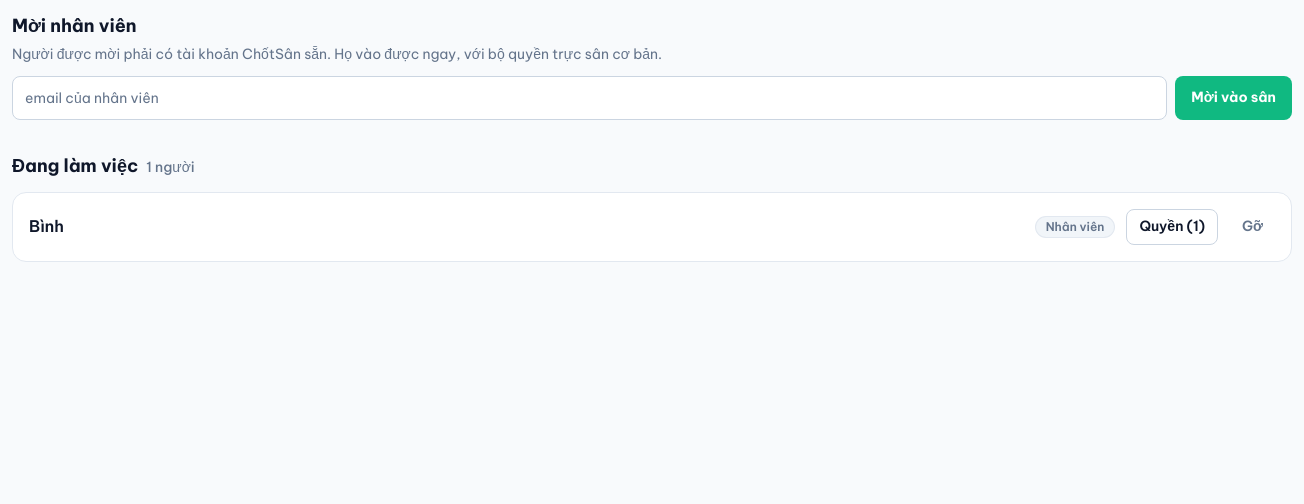
Test case: StaffManager › ô chưa tick mà không cấp được thì khoá; ô chủ sân đã tick vẫn gửi đi khi lưu
The width and height of the screenshot is (1304, 504).
Click the button "Quyền (1)".
click(1172, 227)  # box left=1126, top=209, right=1218, bottom=245
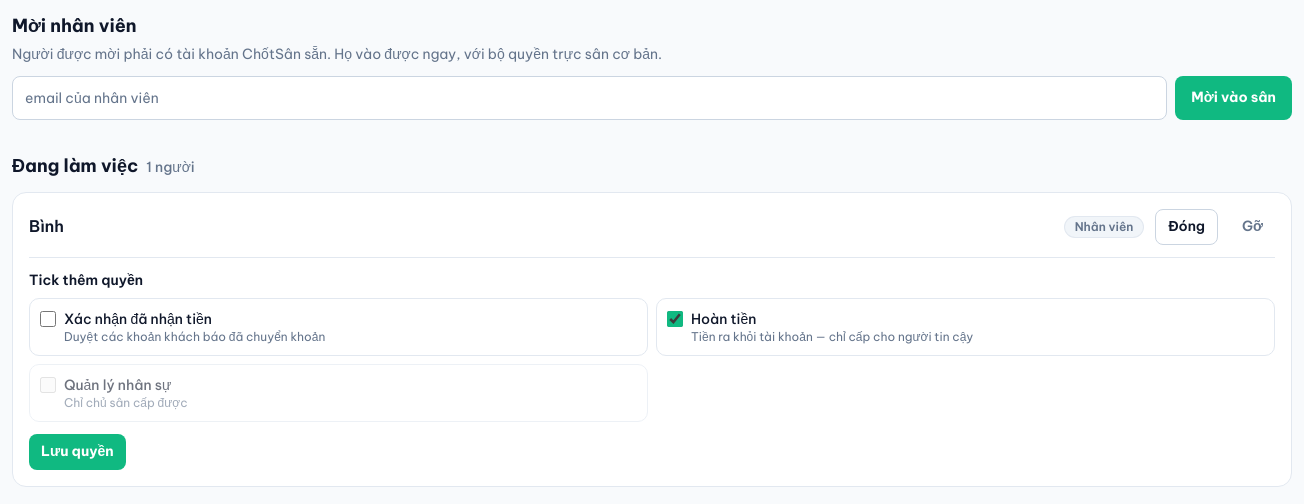
Now the checkbox labelled "Xác nhận đã nhận tiền" is enabled, box left=40, top=311, right=56, bottom=327
Now the checkbox labelled "Hoàn tiền Tiền ra khỏi tài khoản — chỉ cấp cho người tin cậy" is enabled, box left=667, top=311, right=683, bottom=327
Now the checkbox labelled "Hoàn tiền Tiền ra khỏi tài khoản — chỉ cấp cho người tin cậy" is checked, box left=667, top=311, right=683, bottom=327
